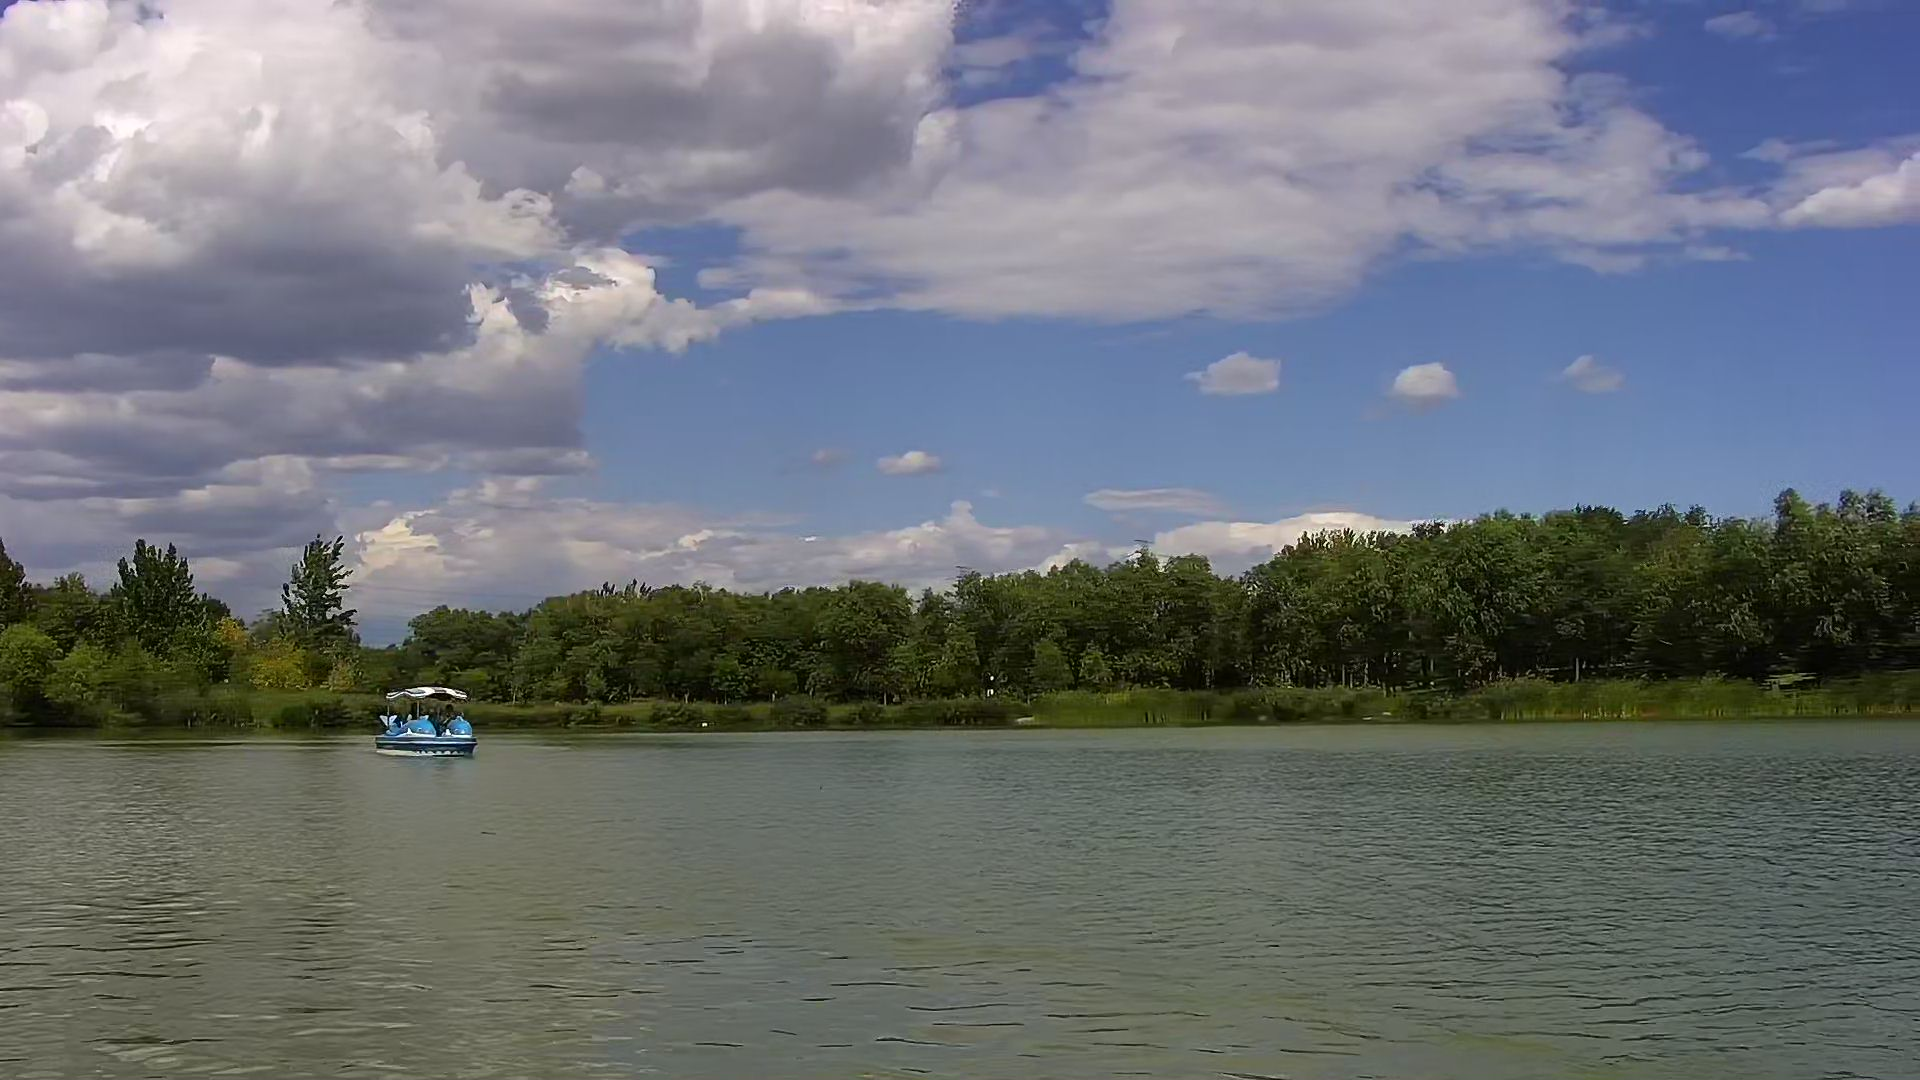boat: (373, 687, 473, 765)
